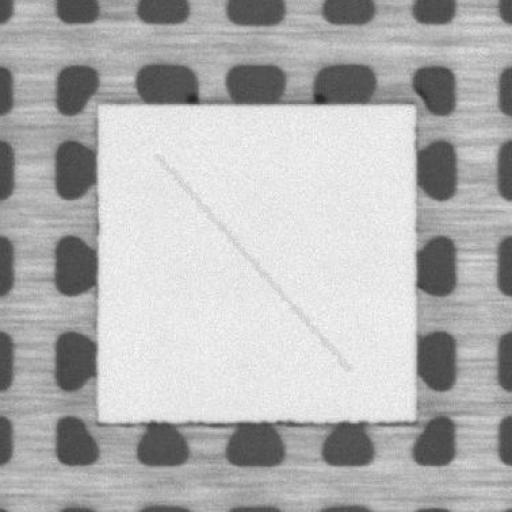DIE_CRACK: (156, 154, 348, 368)
